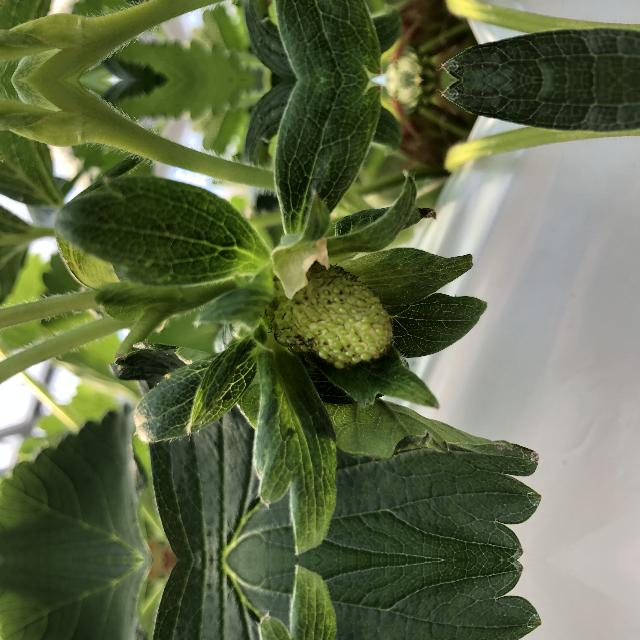Health_25: (273, 260, 405, 364)
